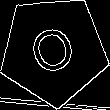O_S: (25, 19, 82, 83)
